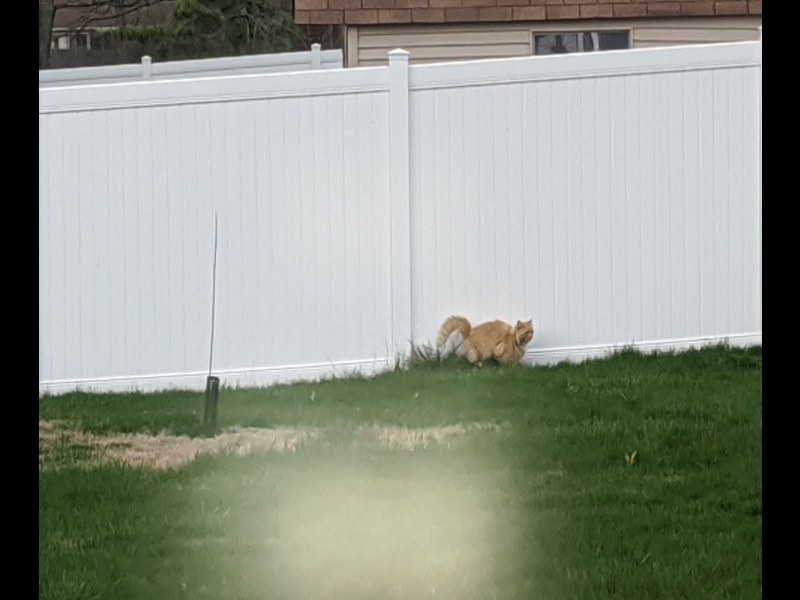cat: (435, 317, 537, 369)
